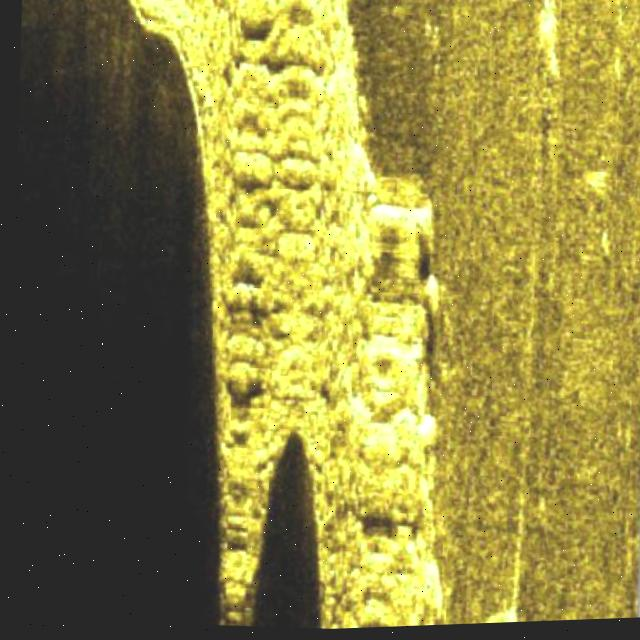bedrock group: (77, 0, 489, 638)
